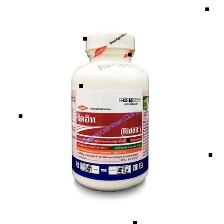insecticide: (66, 29, 150, 193)
